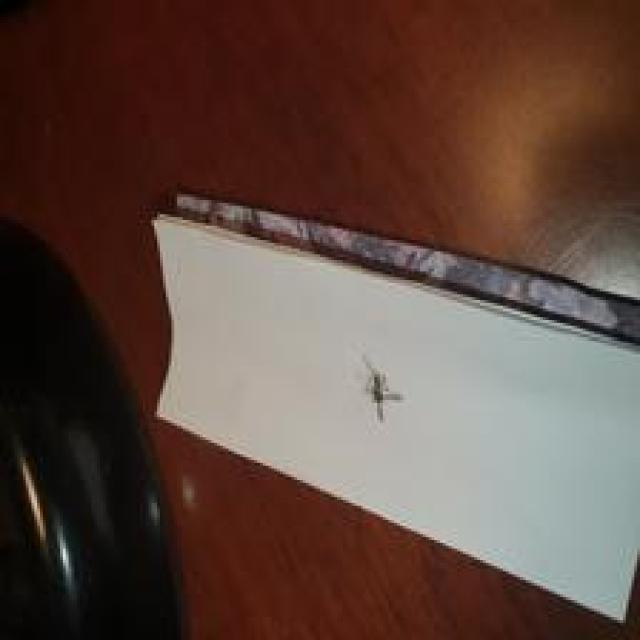Aedes albopictus: (366, 367, 403, 422)
